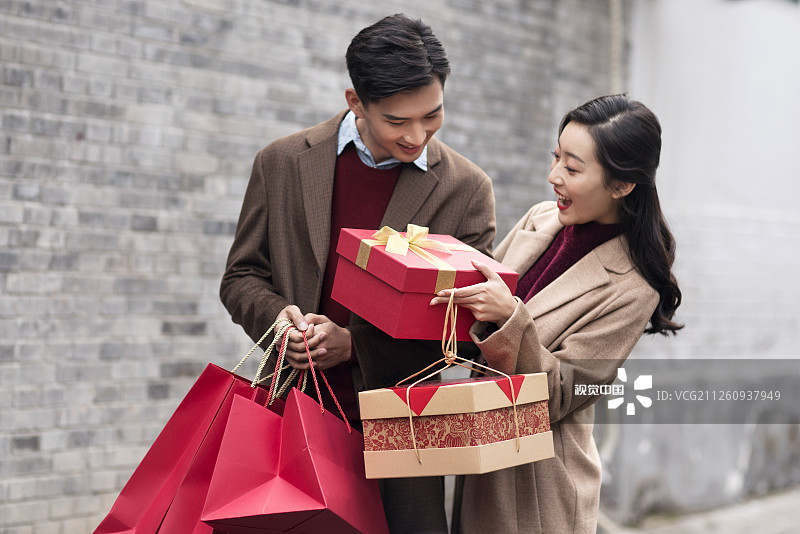no-phone: (425, 251, 523, 335), (262, 297, 359, 377)
